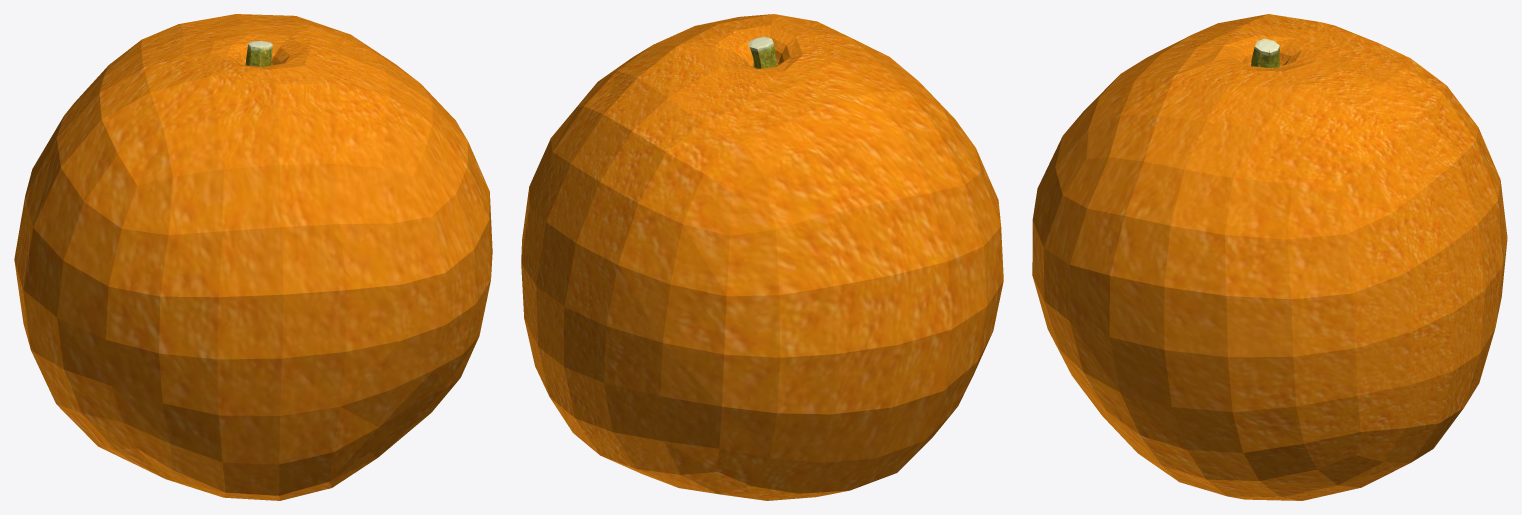
File: orange.dae
3 renders of one model, left to right at view 1: azimuth 30°, elevation 25°; view 2: azimuth 150°, elevation 25°; view 3: azimuth 270°, elevation 25°, orthographic.
Visible parts, largest first — view 1: orange09; view 2: orange09; view 3: orange09.
Part boxes in pixels (box(x1,y1,x2,y2)): orange09: box(14, 14, 492, 500); orange09: box(521, 14, 1003, 500); orange09: box(1032, 14, 1507, 500).
Size of the model in its own units: 2.55 by 2.51 by 2.49.
Materials: 2 (1 with a texture image).
